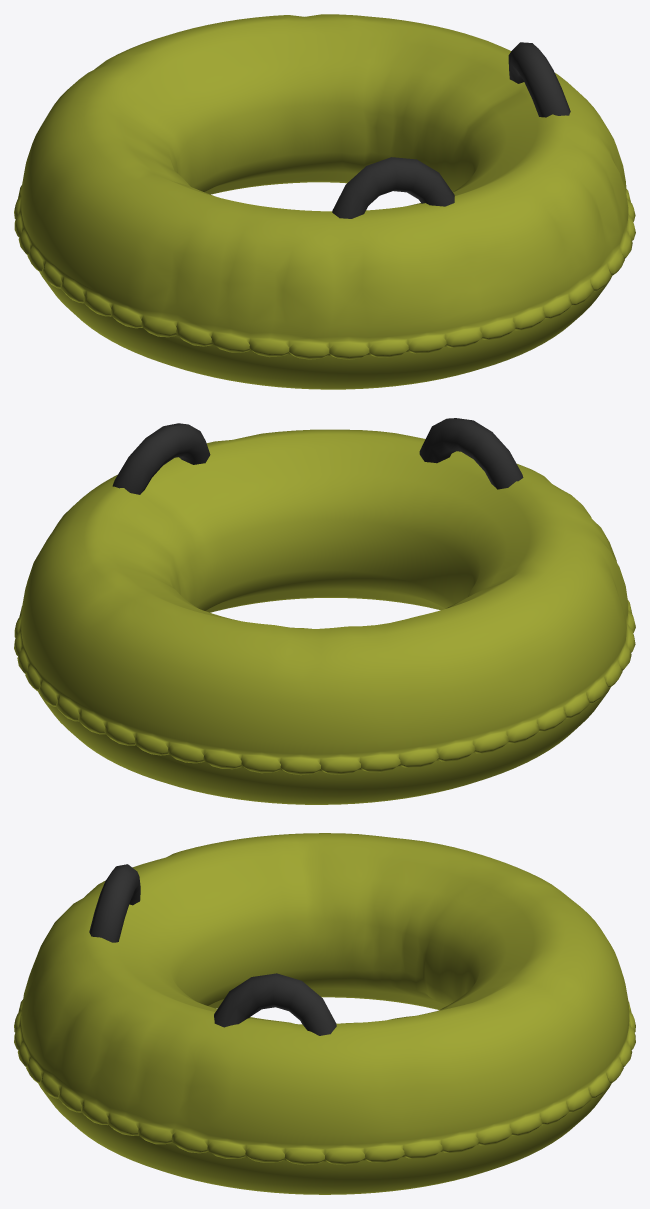
Rendered from innertube.fbx.
3 views of the same model, one above another, from view 1: azimuth 30°, elevation 25°; view 2: azimuth 150°, elevation 25°; view 3: azimuth 270°, elevation 25° (orthographic). The views are drawn at different scales.
Visible parts, largest first — view 1: Torus, handle, handle.001; view 2: Torus, handle, handle.001; view 3: Torus, handle.001, handle.
Part boxes in pixels (x1=…): Torus: x1=14, y1=14, x2=635, y2=389; handle: x1=332, y1=157, x2=454, y2=218; handle.001: x1=508, y1=42, x2=570, y2=117; Torus: x1=14, y1=429, x2=635, y2=804; handle: x1=419, y1=418, x2=523, y2=489; handle.001: x1=112, y1=423, x2=210, y2=494; Torus: x1=14, y1=833, x2=635, y2=1194; handle.001: x1=214, y1=973, x2=336, y2=1035; handle: x1=89, y1=864, x2=140, y2=942.
Size of the model in its own units: 2.92 by 1.09 by 3.01.
